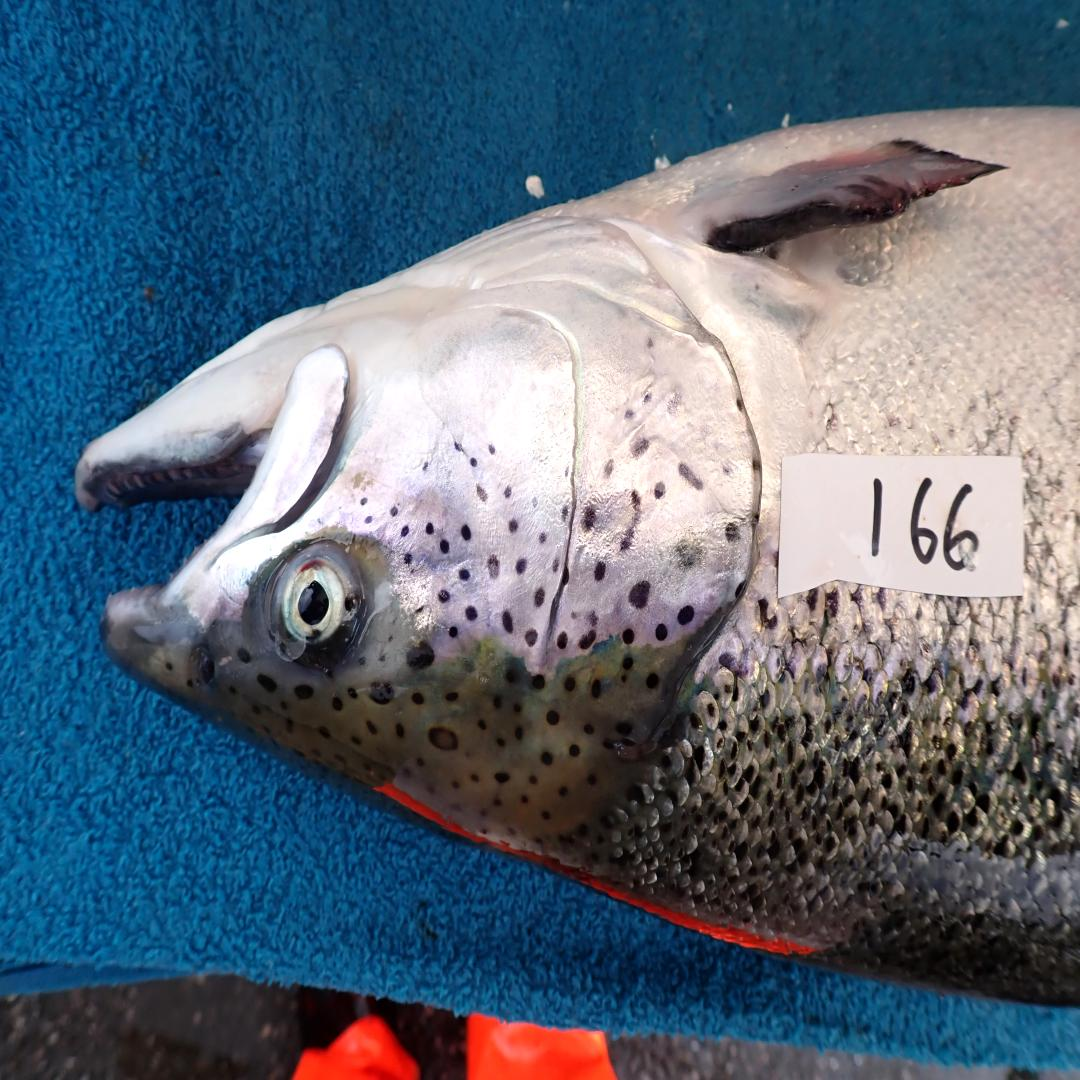roi: (347, 204, 759, 674)
